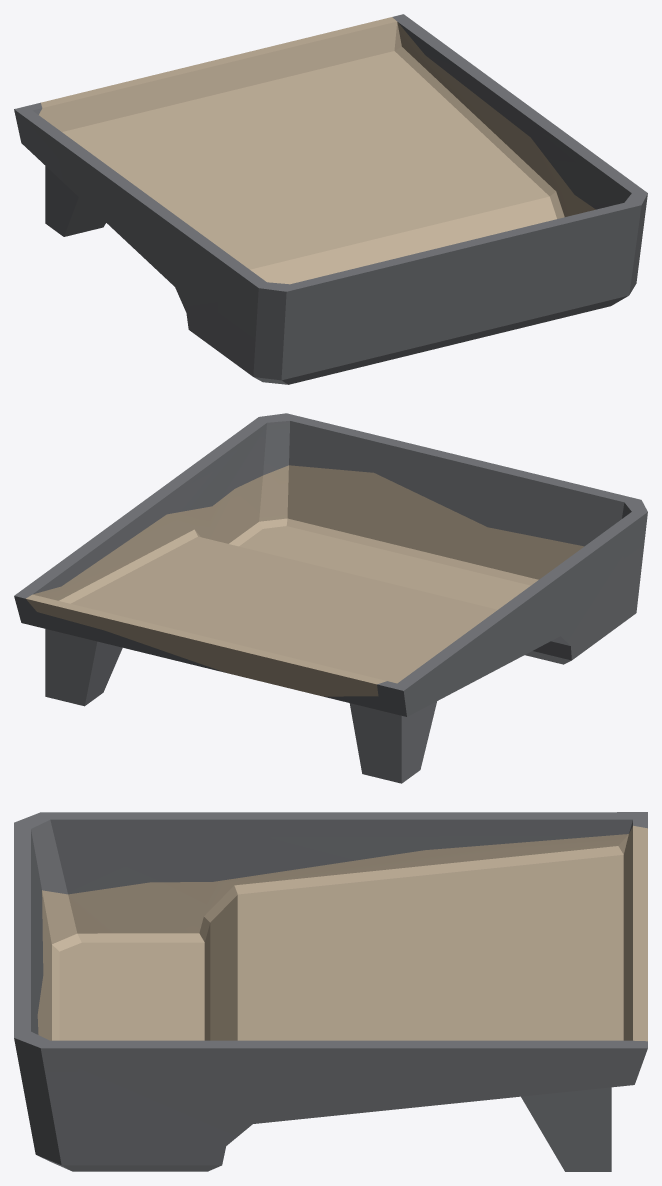
File: SM_Prop_Paint_Tray_02.obj
3 views of the same model, one above another, from view 1: azimuth 30°, elevation 25°; view 2: azimuth 150°, elevation 25°; view 3: azimuth 270°, elevation 25° (orthographic). The views are drawn at different scales.
Visible parts, largest first — view 1: SM_Prop_Paint_Tray_02_0; view 2: SM_Prop_Paint_Tray_02_0; view 3: SM_Prop_Paint_Tray_02_0.
Part boxes in pixels (x1,y1,x2,y2): SM_Prop_Paint_Tray_02_0: [14, 14, 647, 384]; SM_Prop_Paint_Tray_02_0: [14, 413, 647, 783]; SM_Prop_Paint_Tray_02_0: [14, 812, 647, 1171].
Bounding box in the file's own units: 0.4829 × 0.1273 × 0.5479.
Materials: 1 (1 with a texture image).
